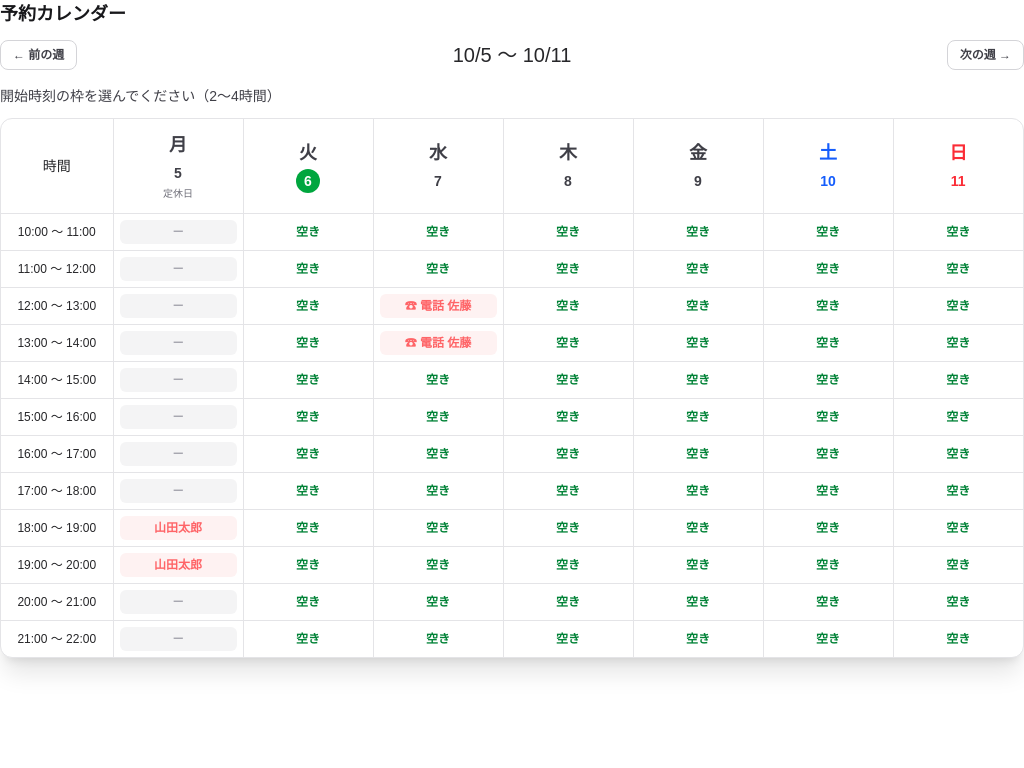
it: B11: 定休日に残った予約も出て、押すと予約の詳細が開く（開始済みならキャンセルボタンは無い）
The width and height of the screenshot is (1024, 768).
Step 1. Click the button "山田太郎" next to "18:00 〜 19:00" → {"x": 178, "y": 528}, box [120, 516, 236, 540]
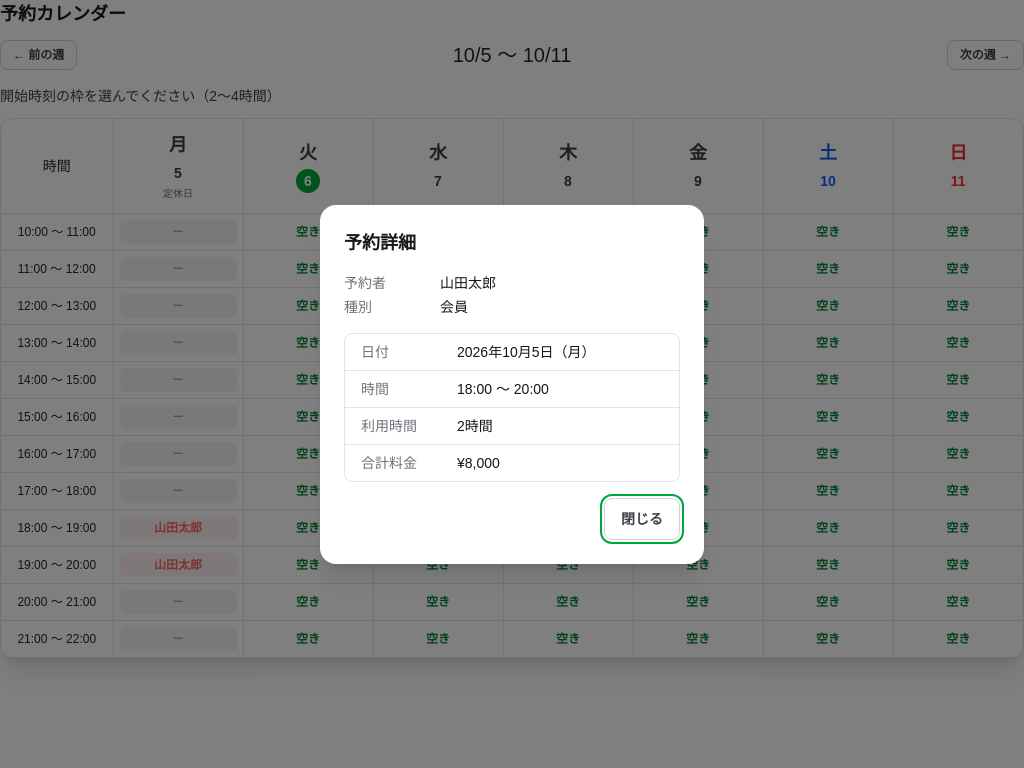
Expected: the text "山田太郎" is shown, [440, 272, 496, 292]
